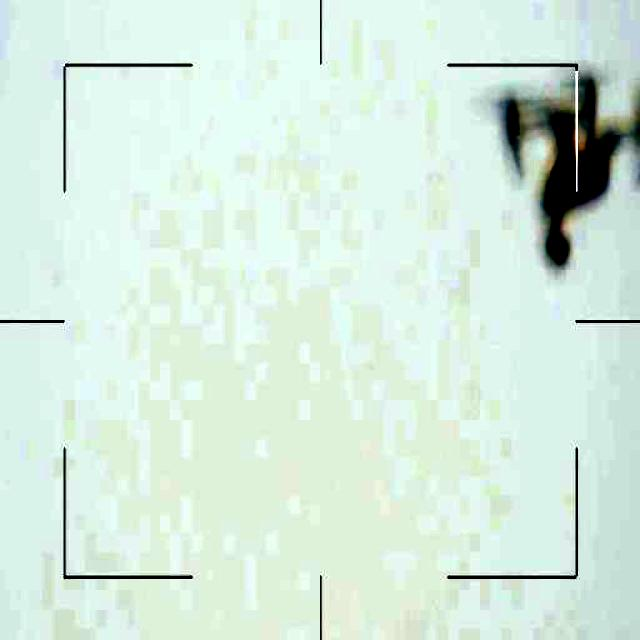bird: (485, 62, 640, 262)
